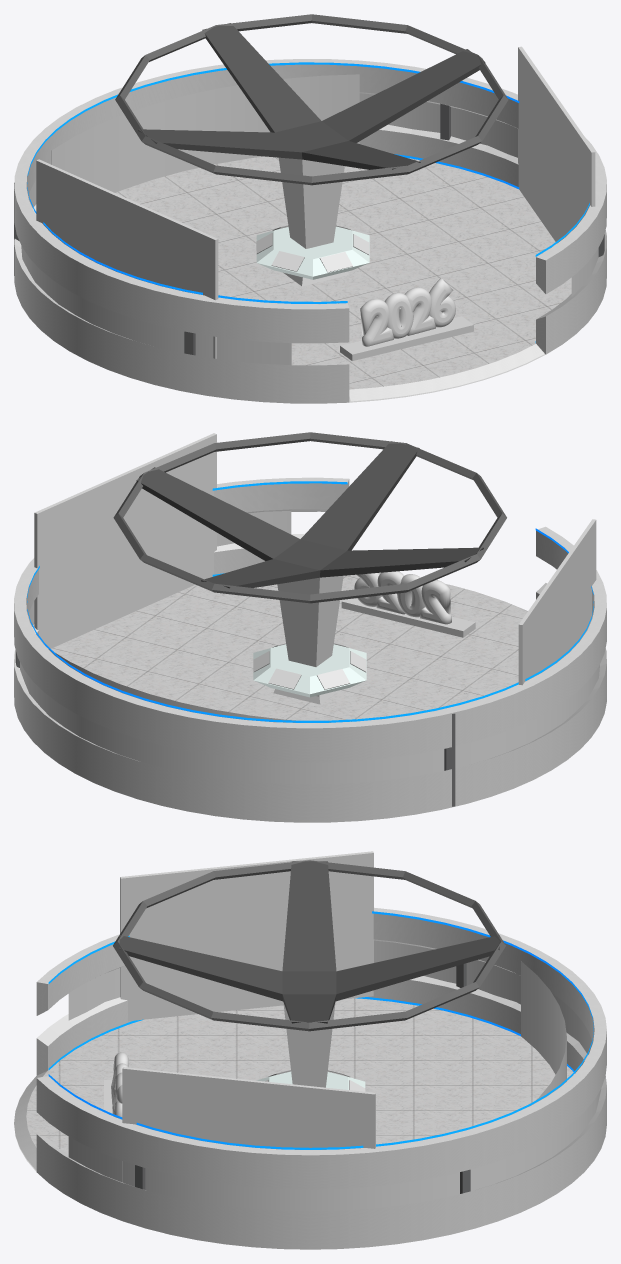
The model's file is quit.glb.
The picture shows the model from 3 angles, top to bottom: view 1: azimuth 30°, elevation 25°; view 2: azimuth 150°, elevation 25°; view 3: azimuth 270°, elevation 25°; orthographic projection.
Visible parts, largest first — view 1: 墙体, 地面, 环形屏幕, 中间柱子, 大屏幕01, 大屏幕02, 环体, 柱子屏幕, 文本.002, 操作台, 墙体灯带, 2023底台 (+2 smaller); view 2: 墙体, 地面, 大屏幕02, 中间柱子, 环形屏幕, 环体, 大屏幕01, 柱子屏幕, 文本.002, 操作台, 墙体灯带, 2023底台 (+2 smaller); view 3: 墙体, 地面, 大屏幕01, 环形屏幕, 大屏幕02, 中间柱子, 环体, 墙体灯带, 柱子屏幕, 文本.002, 柱子, 操作台.
Part boxes in pixels (box(x1,y1,x2,y2)): 墙体: box(14, 59, 606, 403); 地面: box(115, 156, 571, 389); 环形屏幕: box(21, 74, 598, 365); 中间柱子: box(138, 23, 485, 169); 大屏幕01: box(36, 159, 218, 358); 大屏幕02: box(518, 46, 595, 243); 环体: box(115, 14, 508, 185); 柱子屏幕: box(278, 157, 348, 286); 文本.002: box(360, 278, 455, 346); 操作台: box(256, 226, 369, 279); 墙体灯带: box(27, 62, 589, 342); 2023底台: box(340, 316, 473, 360); 墙体: box(14, 477, 606, 822); 地面: box(51, 573, 527, 722); 大屏幕02: box(34, 433, 216, 648); 中间柱子: box(136, 441, 483, 588); 环形屏幕: box(20, 511, 599, 784); 环体: box(113, 432, 506, 603); 大屏幕01: box(518, 519, 596, 685); 柱子屏幕: box(273, 575, 343, 704); 文本.002: box(354, 571, 451, 624); 操作台: box(253, 644, 366, 697); 墙体灯带: box(27, 481, 593, 722); 2023底台: box(341, 598, 475, 637); 墙体: box(14, 907, 606, 1249); 地面: box(26, 998, 574, 1154); 大屏幕01: box(120, 851, 373, 1021); 环形屏幕: box(68, 940, 601, 1211); 大屏幕02: box(122, 1067, 375, 1182); 中间柱子: box(119, 861, 499, 1023); 环体: box(113, 860, 505, 1031); 墙体灯带: box(48, 911, 593, 1149); 柱子屏幕: box(283, 1002, 335, 1087); 文本.002: box(111, 1052, 128, 1119); 柱子: box(135, 963, 470, 1193); 操作台: box(256, 1071, 365, 1089).
Bounding box in the file's own units: 24.91 × 8.85 × 24.92.
Materials: 11 (2 with a texture image).
